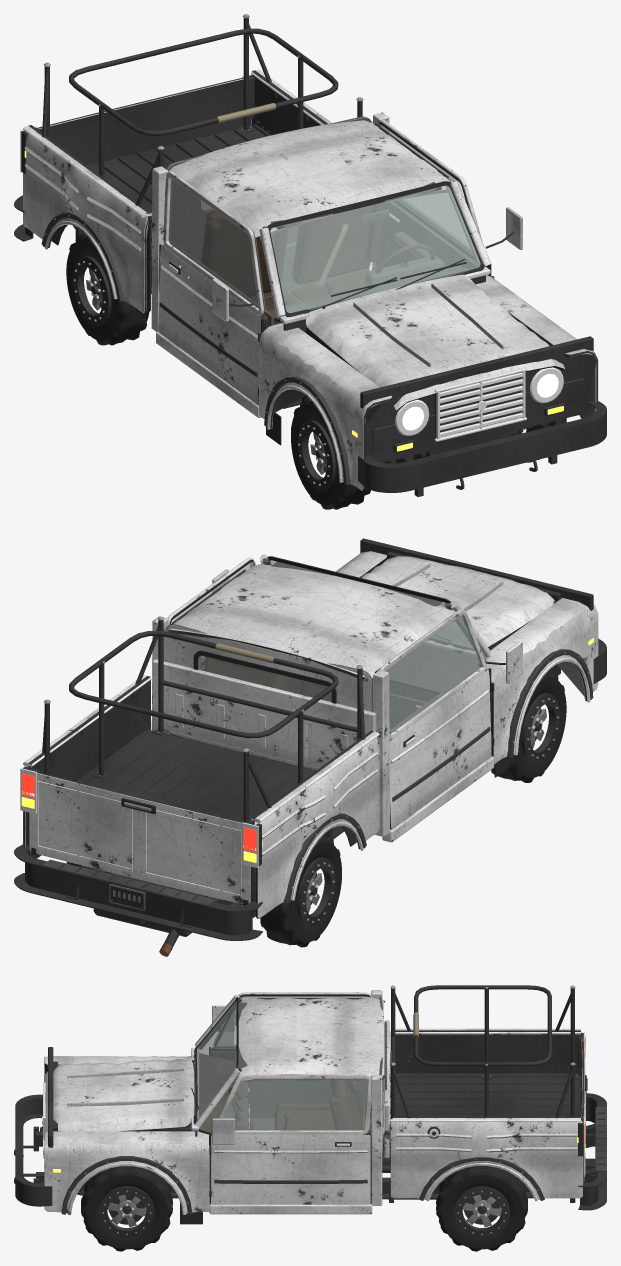
File: dev_t3.glb
3 renders of one model, top to bottom at view 1: azimuth 30°, elevation 25°; view 2: azimuth 150°, elevation 25°; view 3: azimuth 270°, elevation 25°, orthographic. The views are drawn at different scales.
Visible parts, largest first — view 1: body, panel_hood, panel_door_R, panel_fender_R, panel_tailgate, panel_bumper_F, wheel_RR, panel_door_L, wheel_FR, panel_fender_L; view 2: body, panel_tailgate, panel_door_R, panel_fender_R, panel_bumper_R, panel_hood, wheel_RR, wheel_FR, panel_door_L, panel_fender_L; view 3: body, panel_door_L, panel_hood, panel_fender_L, wheel_RL, wheel_FL, panel_bumper_F, panel_bumper_R, panel_door_R, panel_fender_R, panel_tailgate.
Boxes of the visible parts, box(x1,y1,x2,y2) form: body: box(20, 14, 593, 496); panel_hood: box(305, 274, 564, 410); panel_door_R: box(158, 171, 268, 405); panel_fender_R: box(259, 323, 392, 490); panel_tailgate: box(37, 77, 270, 165); panel_bumper_F: box(358, 401, 606, 492); wheel_RR: box(66, 233, 149, 345); panel_door_L: box(377, 119, 522, 278); wheel_FR: box(291, 397, 370, 509); panel_fender_L: box(476, 275, 598, 418); body: box(20, 538, 593, 956); panel_tailgate: box(29, 772, 251, 905); panel_door_R: box(377, 609, 522, 829); panel_fender_R: box(480, 598, 598, 777); panel_bumper_R: box(14, 844, 262, 940); panel_hood: box(361, 556, 554, 647); wheel_RR: box(260, 835, 341, 947); wheel_FR: box(491, 671, 566, 782); panel_door_L: box(167, 557, 255, 733); panel_fender_L: box(334, 551, 386, 577); body: box(14, 985, 602, 1214); panel_door_L: box(209, 1074, 371, 1204); panel_hood: box(44, 1057, 194, 1139); panel_fender_L: box(44, 1131, 209, 1224); wheel_RL: box(436, 1166, 527, 1251); wheel_FL: box(81, 1166, 172, 1251); panel_bumper_F: box(15, 1094, 52, 1206); panel_bumper_R: box(578, 1093, 606, 1210); panel_door_R: box(211, 992, 372, 1050); panel_fender_R: box(44, 1056, 191, 1074); panel_tailgate: box(550, 1039, 587, 1182).
Bounding box in the file's own units: 2.6 × 1.97 × 5.68.
19 materials, 9 textured.
